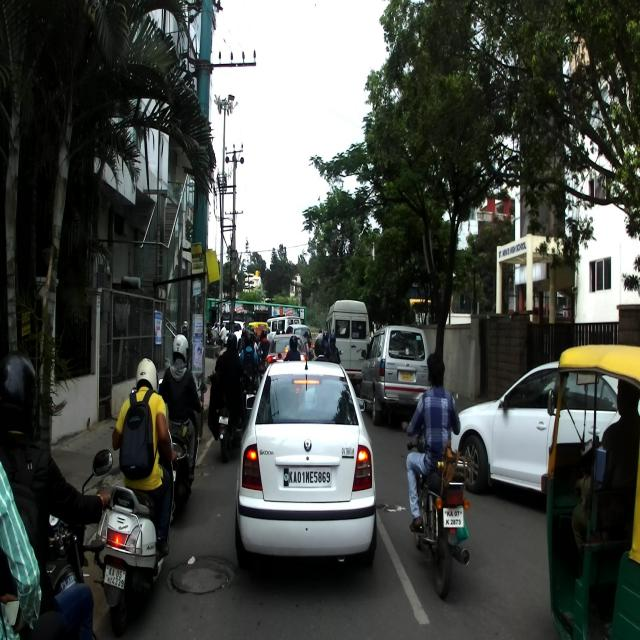Car_Chevrolet: (360, 325, 430, 425)
Car_Skoda: (235, 348, 376, 572)
autorickshaw: (540, 344, 638, 637)
motorcycle_bajaj: (0, 448, 113, 638)
scooter: (94, 432, 176, 635)
